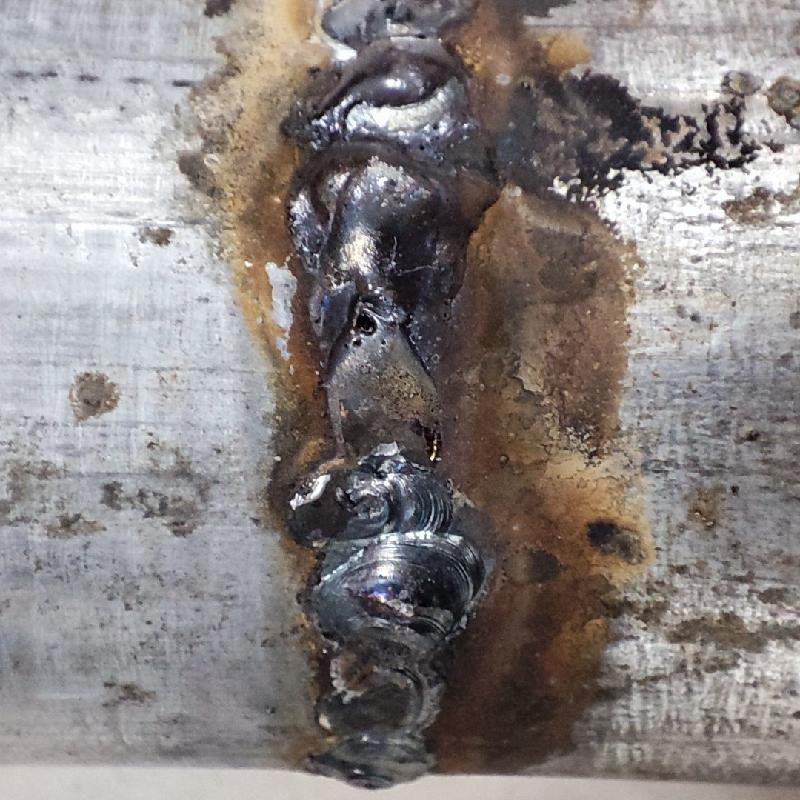Not_fully_soldered: (316, 309, 456, 526)
Surface_pores: (327, 287, 403, 355)
Weld: (310, 44, 478, 296)
wrong_size: (302, 528, 473, 783)
